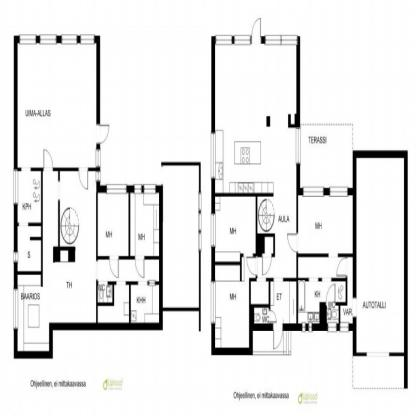door: (272, 326, 284, 350), (335, 257, 348, 278), (78, 167, 89, 191), (42, 148, 53, 172), (252, 17, 262, 43), (246, 257, 258, 278), (287, 231, 298, 253), (135, 258, 146, 280), (97, 127, 110, 144), (262, 254, 272, 276), (110, 256, 120, 278), (327, 284, 336, 304)
window: (265, 34, 298, 44), (107, 182, 127, 195), (198, 192, 202, 252), (211, 132, 216, 178), (211, 281, 216, 325), (13, 288, 18, 329), (295, 128, 301, 162), (304, 186, 324, 196), (211, 213, 216, 248), (80, 34, 95, 45), (20, 34, 36, 44), (40, 34, 56, 44), (216, 34, 232, 44), (234, 35, 250, 45), (13, 171, 18, 202), (96, 147, 100, 184), (330, 187, 348, 195), (62, 35, 76, 43), (144, 184, 156, 193), (339, 323, 349, 332), (134, 184, 142, 193), (328, 323, 336, 331), (14, 250, 18, 264), (302, 323, 306, 333), (309, 324, 312, 332)
zone: (18, 172, 159, 354), (215, 42, 296, 322), (17, 44, 96, 167), (356, 155, 404, 352), (298, 194, 356, 322), (162, 166, 198, 307), (300, 126, 353, 188), (214, 265, 250, 348), (215, 194, 255, 262), (17, 171, 41, 271), (97, 192, 128, 257), (130, 192, 158, 256), (131, 284, 159, 324), (253, 328, 291, 354), (98, 283, 112, 301), (327, 303, 339, 322)
